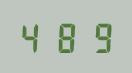eight: (50, 20, 80, 53)
four: (18, 20, 48, 53)
nine: (81, 20, 111, 53)
